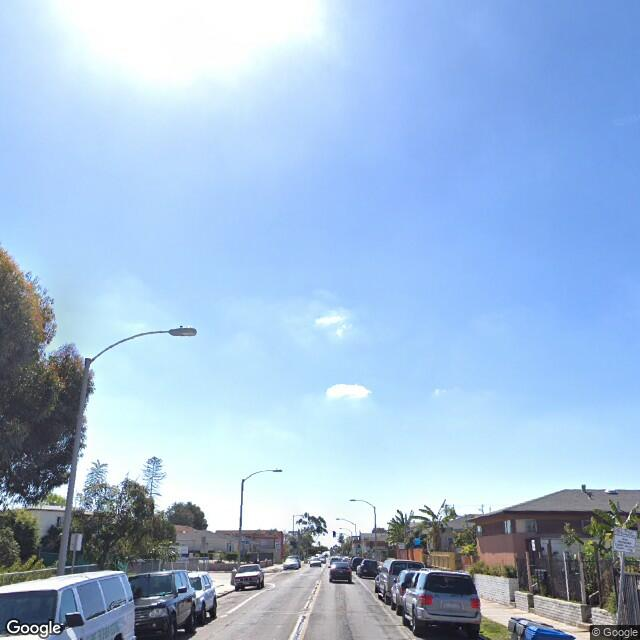light: (164, 324, 199, 338)
road line: (295, 581, 320, 640)
